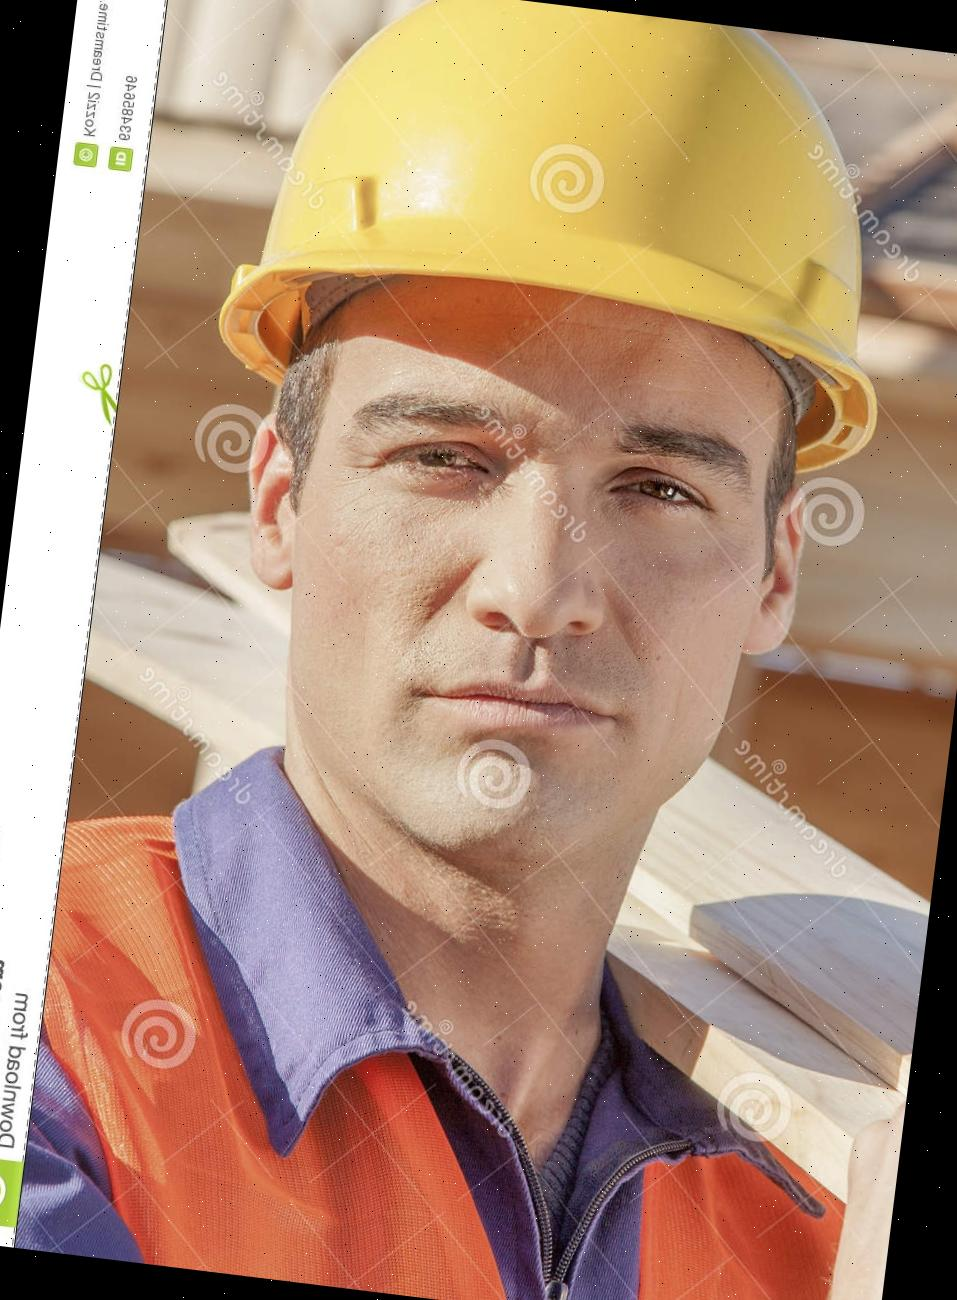helmet: (205, 0, 923, 484)
wear: (12, 961, 879, 1300)
